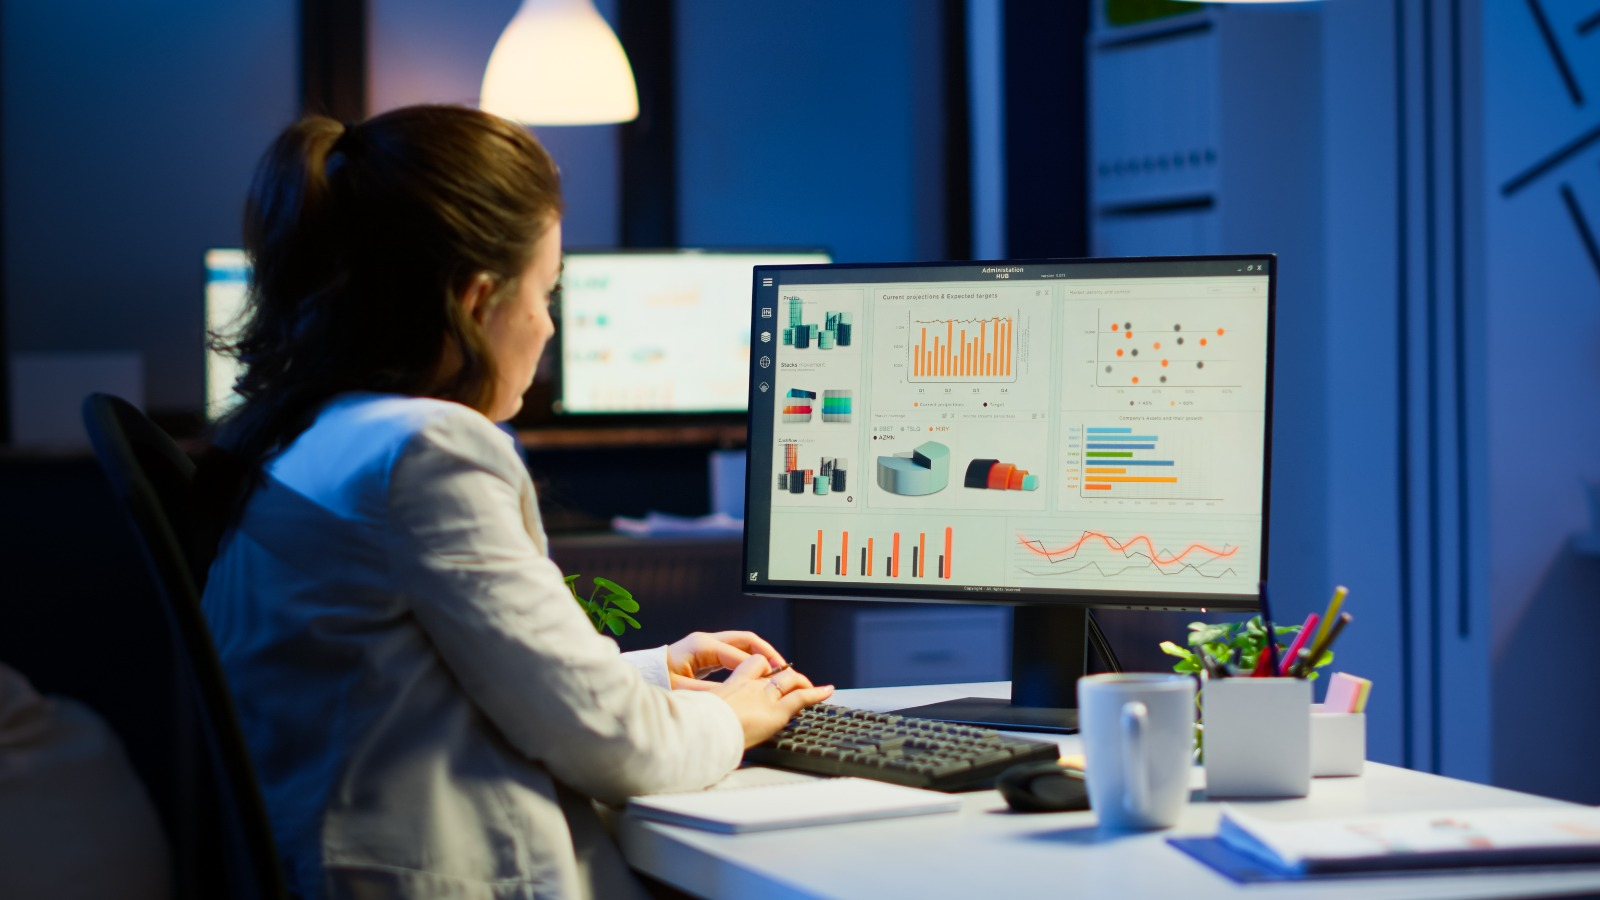

The dashboard page shown, as its layout file describes it:
{"tool":"tableau","page":{"name":"Dashboard 1","canvas":[1000,1000],"units":"permille","ordinal":0},"visuals":[{"type":"image","param":"Image/image-removebg-preview (2).png","box":[50.7,2.4,88.7,94]},{"type":"image","param":"Image/image-removebg-preview (1).png","box":[96.6,3.5,149.7,78.7]},{"type":"image","param":"Image/image-removebg-preview.png","box":[6.6,4.7,43.5,79.9]},{"type":"title","box":[4.8,9.4,990.3,84.6]},{"type":"worksheet","title":"Tren4","mark":"Bar","rows":["nama_kabupaten_kota"],"cols":["jumlah_pemilik_rutilahu"],"box":[4.8,94,320.8,506.9]},{"type":"worksheet","title":"MAP","mark":"Multipolygon","box":[325.6,94,592.6,506.9]},{"type":"filter","title":"MAP","param":"[federated.0ciqukz0xirugn1ctbvjg1rgkavd].[none:Kelayakan:nk]","box":[918.2,94,76.9,238.5]},{"type":"filter","title":"MAP","param":"[federated.0ciqukz0xirugn1ctbvjg1rgkavd].[none:Katregori:nk]","box":[918.2,332.5,76.9,268.4]},{"type":"worksheet","title":"kategori","mark":"Pie","rows":["Calculation_1256222860339347456","Calculation_1256222860339347456"],"box":[4.8,600.9,235.7,389.7]},{"type":"worksheet","title":"Tren2","mark":"Automatic","rows":["jumlah_sanitasi layak"],"cols":["tahun (sanitasi)"],"box":[240.6,600.9,236,389.7]},{"type":"worksheet","title":"Tren3","mark":"Automatic","rows":["jumlah_sampah"],"cols":["tahun (sampah)"],"box":[476.5,600.9,262.5,389.7]},{"type":"worksheet","title":"Tren1","mark":"Automatic","rows":["jumlah_akses"],"cols":["tahun (akses air)"],"box":[739,600.9,256.1,389.7]}]}

Visuals, with their boxes on the dashboard's canvas, which has no fixed pixel size, in thousandths of its width and height (x1, y1, x2, y2). These are canvas units, not pixel positions in the 1600x900 screenshot, which may show the page scaled, cropped or inside an application window:
image: crop(51, 2, 139, 96)
image: crop(97, 4, 246, 82)
image: crop(7, 5, 50, 85)
title: crop(5, 9, 995, 94)
"Tren4" worksheet (Bar marks): crop(5, 94, 326, 601)
"MAP" worksheet (Multipolygon marks): crop(326, 94, 918, 601)
"MAP" filter: crop(918, 94, 995, 332)
"MAP" filter: crop(918, 332, 995, 601)
"kategori" worksheet (Pie marks): crop(5, 601, 240, 991)
"Tren2" worksheet: crop(241, 601, 477, 991)
"Tren3" worksheet: crop(476, 601, 739, 991)
"Tren1" worksheet: crop(739, 601, 995, 991)
